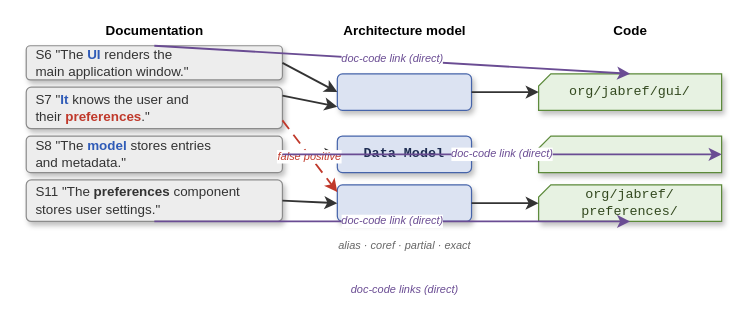
Image size: 750x320. Some labels were removed from this diagram. Each missing label, with the centre of its shape:
"gui" belongs at pixel 405 93.
"org/jabref/model/" belongs at pixel 631 155.
"preferences" belongs at pixel 405 204.
